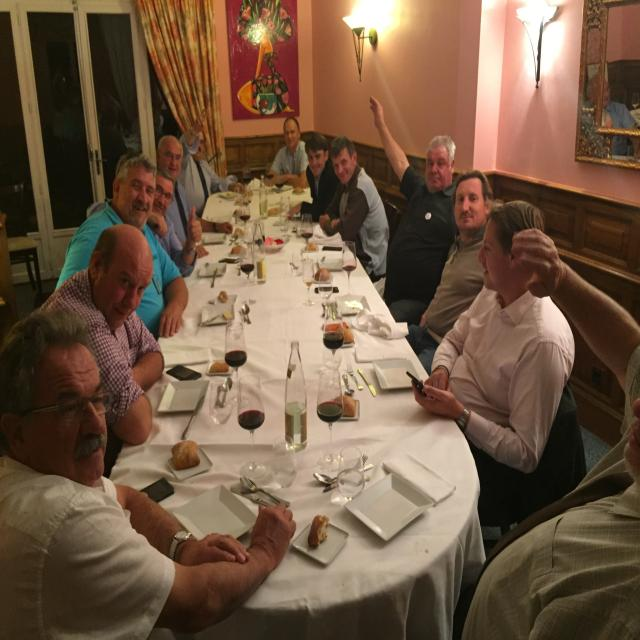body: (0, 309, 298, 640), (458, 226, 640, 640), (410, 200, 576, 526), (35, 221, 166, 448), (54, 148, 190, 340), (367, 94, 461, 327), (82, 163, 190, 339), (406, 168, 494, 375), (318, 133, 391, 303), (176, 107, 240, 219), (156, 134, 210, 261), (287, 133, 340, 222), (592, 80, 640, 156), (263, 116, 310, 190)
